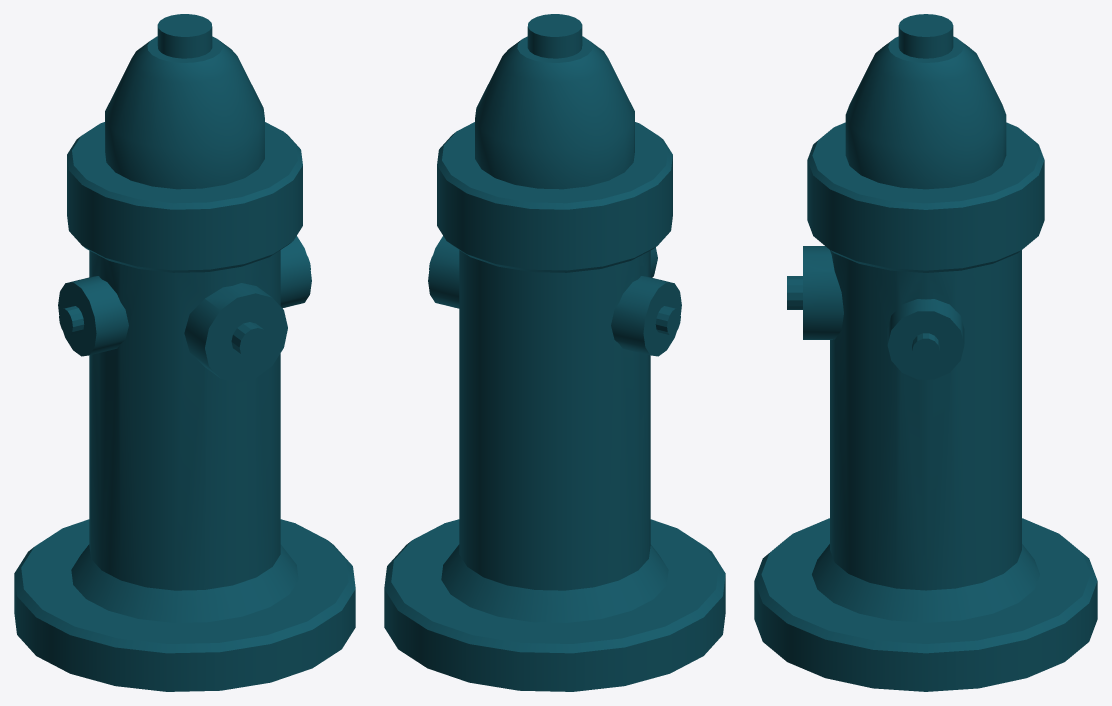
The model's file is FireHydrant.fbx.
3 views of the same model, side by side, from view 1: azimuth 30°, elevation 25°; view 2: azimuth 150°, elevation 25°; view 3: azimuth 270°, elevation 25° (orthographic).
Parts seen in each view (by area): view 1: FireHydrant; view 2: FireHydrant; view 3: FireHydrant.
Boxes of the visible parts, left/top/right/bottom form: FireHydrant: left=14, top=14, right=355, bottom=691; FireHydrant: left=384, top=14, right=725, bottom=691; FireHydrant: left=754, top=14, right=1097, bottom=691.
Bounding box in the file's own units: 2 × 3.82 × 2.
